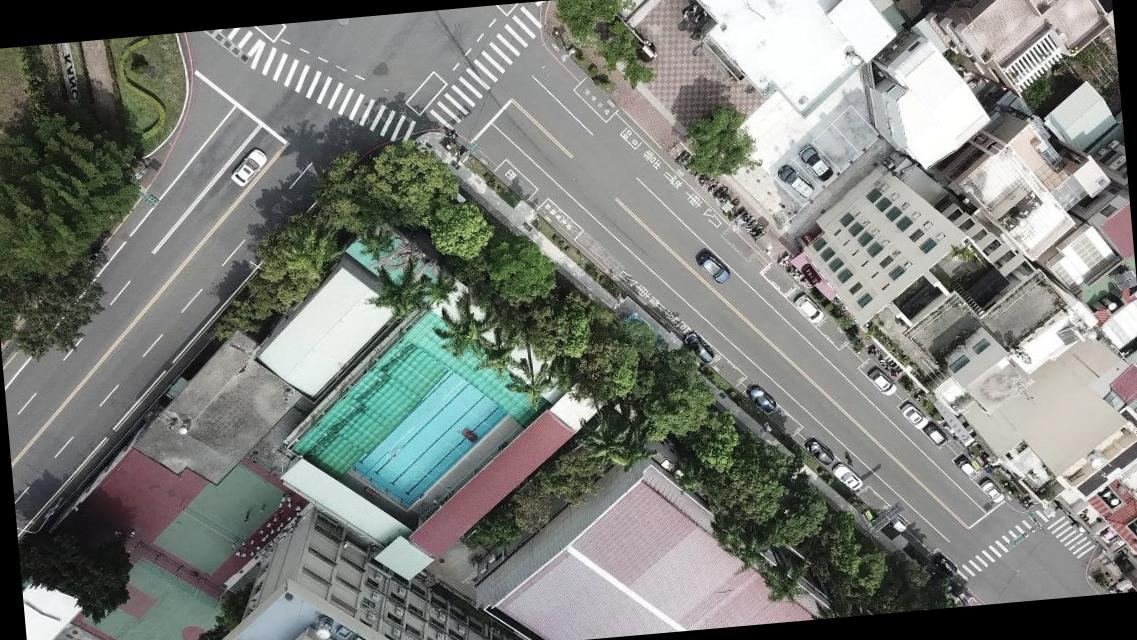vehicle: (227, 149, 269, 188), (796, 142, 833, 184), (775, 162, 813, 200), (694, 250, 730, 287), (682, 331, 714, 366), (744, 382, 775, 416), (830, 461, 863, 492), (793, 293, 824, 324), (804, 438, 835, 467), (899, 402, 928, 432), (868, 368, 895, 399), (931, 551, 957, 580), (978, 479, 1004, 505), (883, 510, 908, 534), (954, 455, 978, 479), (924, 422, 946, 448)
